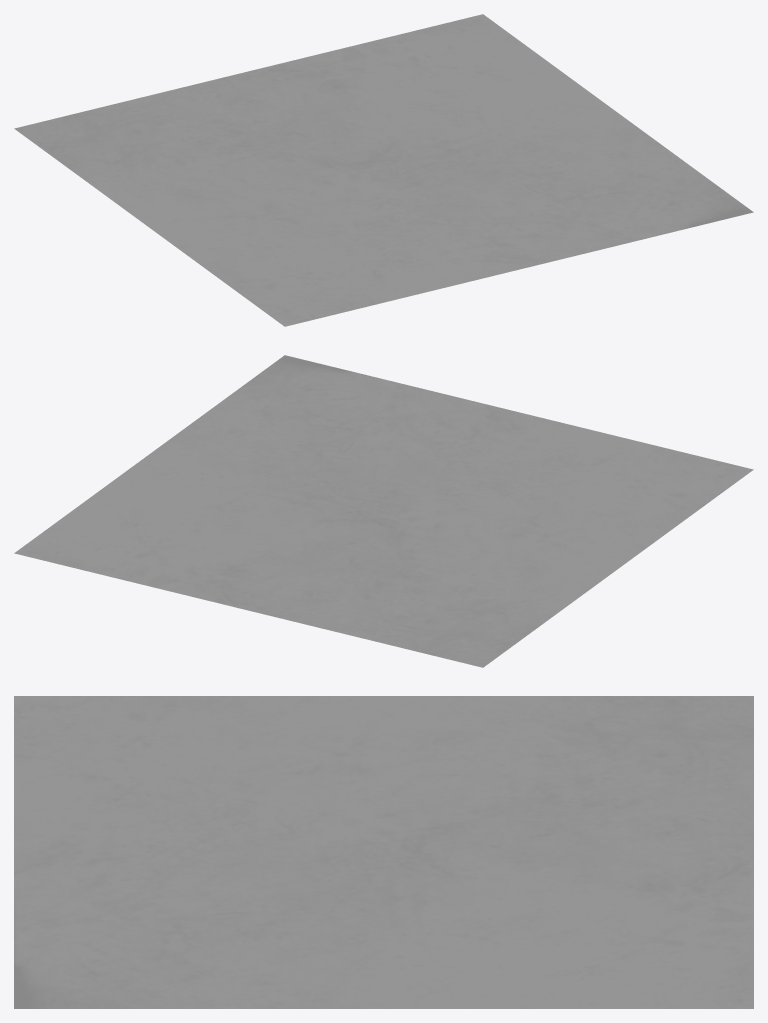
The model's file is Floor-Middle.fbx.
The picture shows the model from 3 angles, top to bottom: view 1: azimuth 30°, elevation 25°; view 2: azimuth 150°, elevation 25°; view 3: azimuth 270°, elevation 25°; orthographic projection. The views are drawn at different scales.
Parts seen in each view (by area): view 1: Middle; view 2: Middle; view 3: Middle.
Boxes of the visible parts, box(x1,y1,x2,y2) form: Middle: box(14, 14, 753, 326); Middle: box(14, 355, 753, 667); Middle: box(14, 696, 753, 1008).
Bounding box in the file's own units: 78.74 × 4.77e-06 × 78.74.
1 material, 1 textured.
